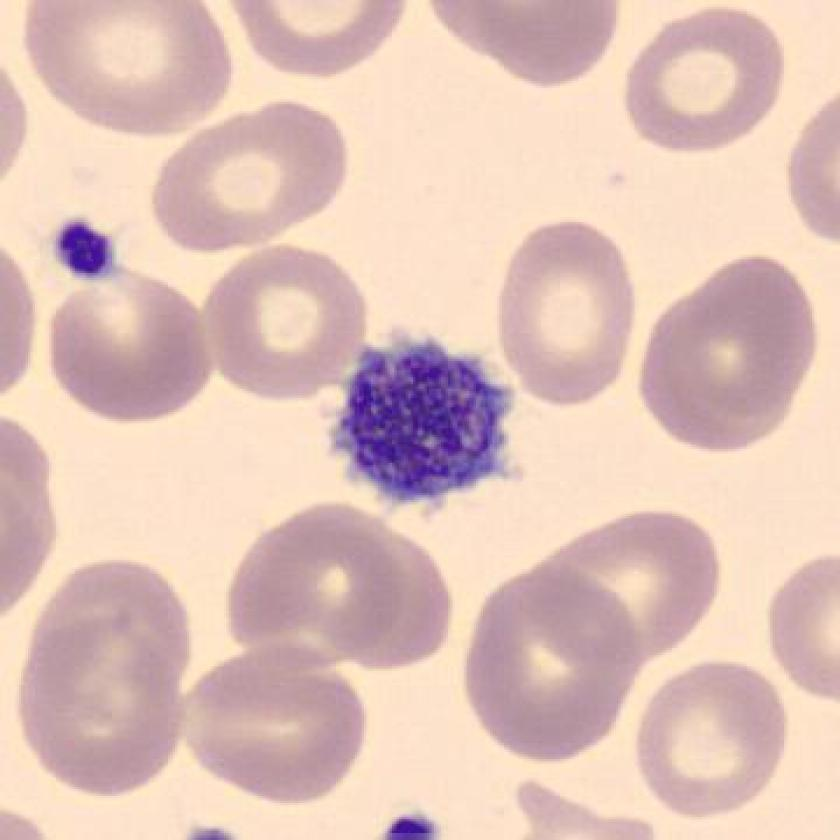platelets: (323, 323, 526, 517), (45, 211, 134, 295)
